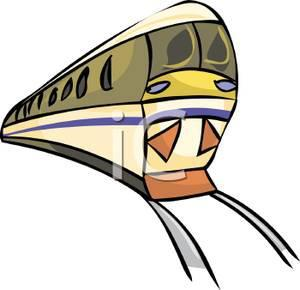train: (1, 1, 237, 206)
